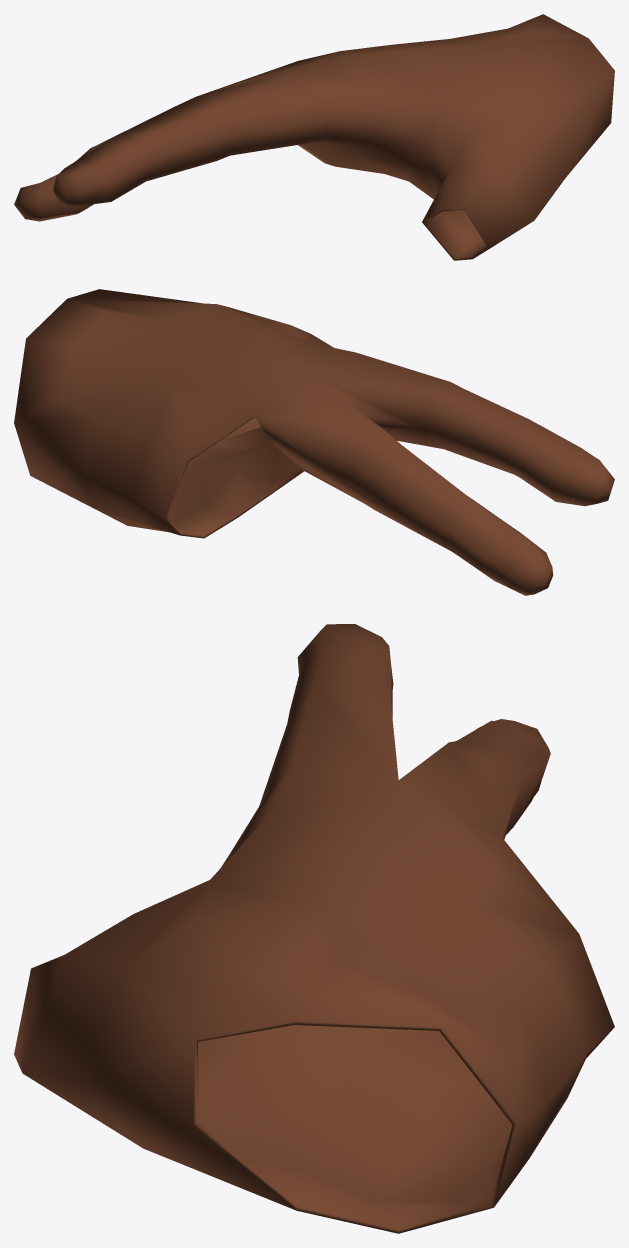
File: ArcherGlove.fbx
3 views of the same model, one above another, from view 1: azimuth 30°, elevation 25°; view 2: azimuth 150°, elevation 25°; view 3: azimuth 270°, elevation 25° (orthographic). The views are drawn at different scales.
Visible parts, largest first — view 1: ArchersGloves; view 2: ArchersGloves; view 3: ArchersGloves.
Part boxes in pixels (box(x1,y1,x2,y2)): ArchersGloves: box(14, 14, 614, 260); ArchersGloves: box(14, 289, 614, 595); ArchersGloves: box(14, 624, 614, 1233).
Bounding box in the file's own units: 0.2168 × 0.0656 × 0.1232.
